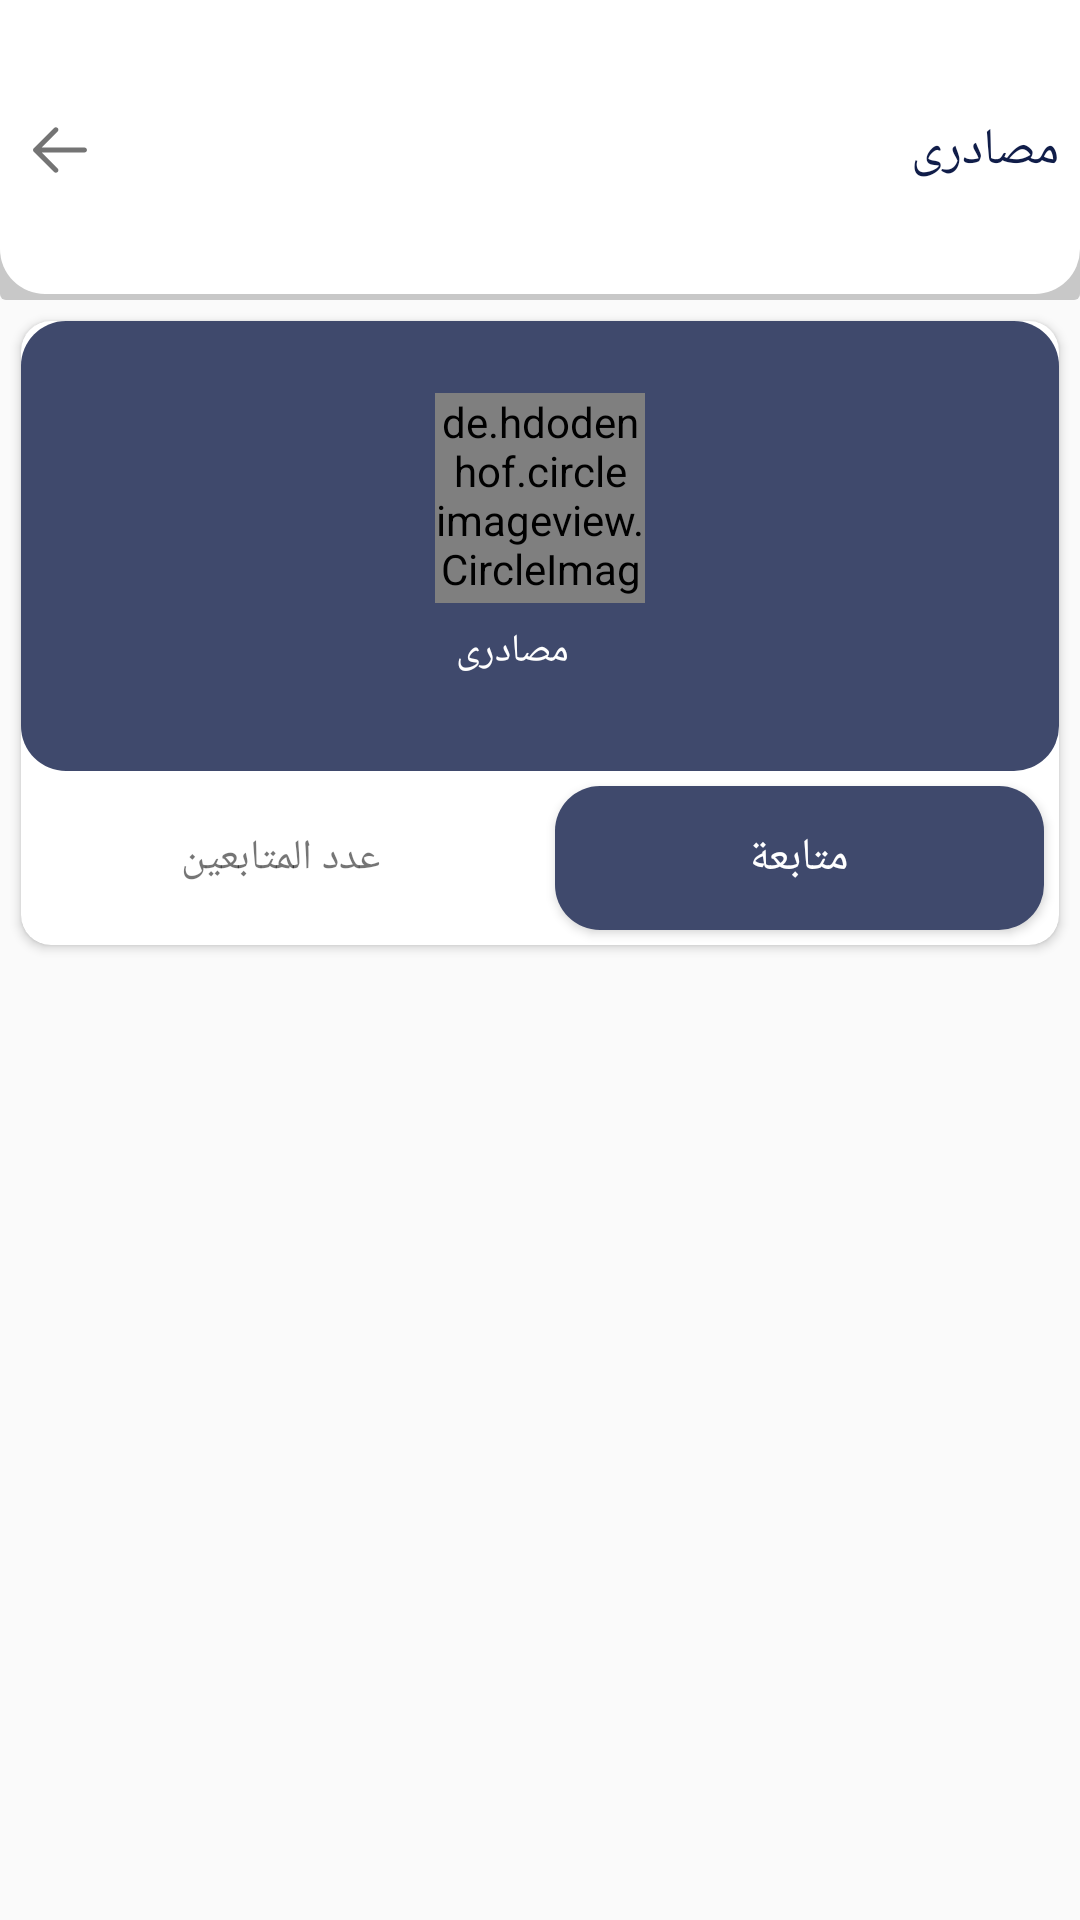

Where icons sit on this 1080 × 1920 app screen, as (x1, y1, x2, y2):
back ion: (33, 127, 87, 173)
